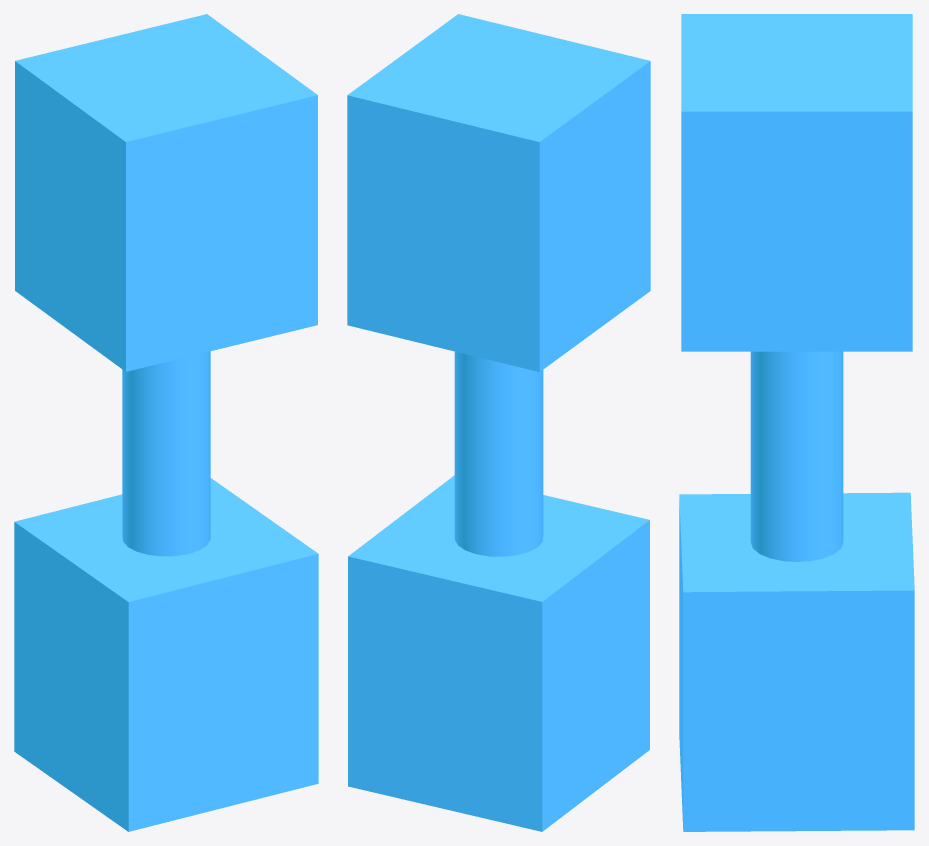
Rendered from robot_object_blue.dae.
The picture shows the model from 3 angles, left to right: view 1: azimuth 30°, elevation 25°; view 2: azimuth 150°, elevation 25°; view 3: azimuth 270°, elevation 25°; orthographic projection. The views are drawn at different scales.
Visible parts, largest first — view 1: dumbell; view 2: dumbell; view 3: dumbell.
Boxes of the visible parts, box(x1,y1,x2,y2) form: dumbell: box(14, 14, 318, 831); dumbell: box(347, 14, 650, 831); dumbell: box(679, 14, 914, 831).
Bounding box in the file's own units: 4.52 × 15.24 × 4.52.
